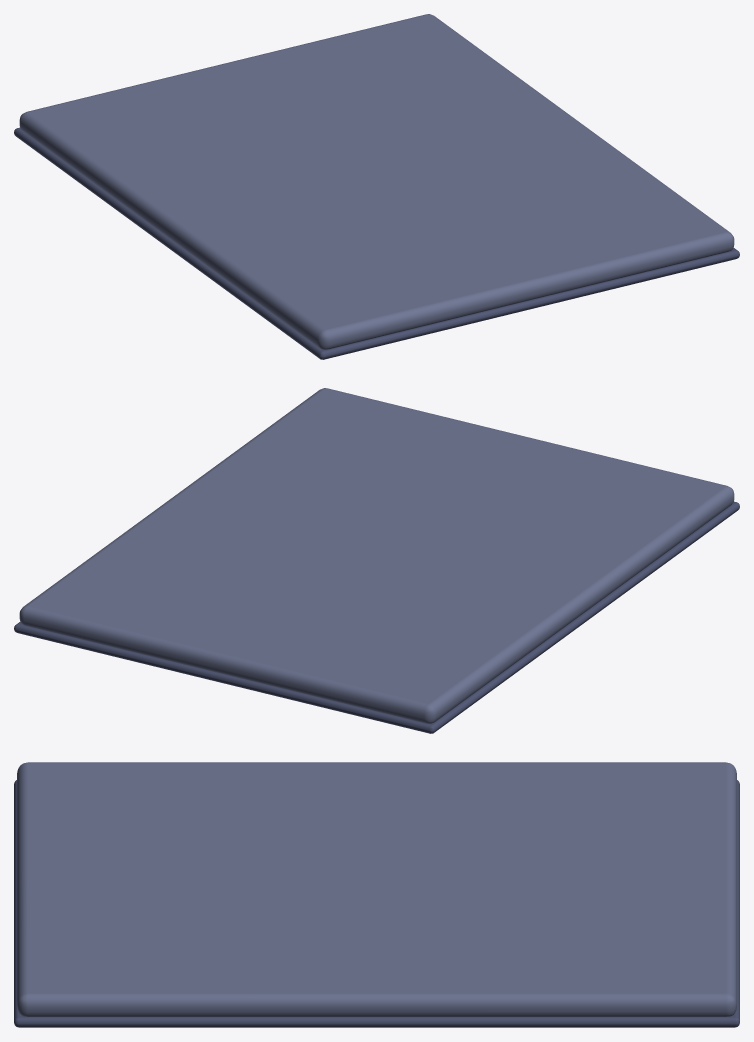
The model's file is frame.glb.
3 renders of one model, top to bottom at view 1: azimuth 30°, elevation 25°; view 2: azimuth 150°, elevation 25°; view 3: azimuth 270°, elevation 25°, orthographic. The views are drawn at different scales.
Parts seen in each view (by area): view 1: Cube; view 2: Cube; view 3: Cube.
Part boxes in pixels (<box>): Cube: <box>14,14,739,359</box>; Cube: <box>14,388,739,733</box>; Cube: <box>14,762,739,1027</box>.
Bounding box in the file's own units: 7.4 × 0.43 × 9.4.
